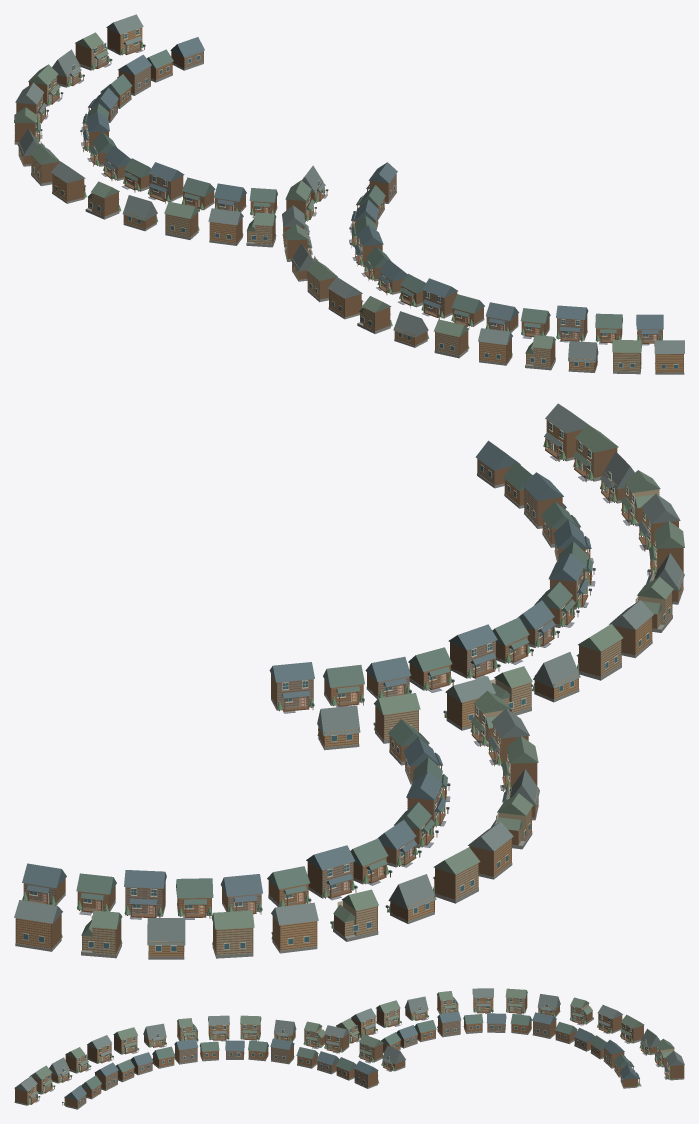
The model's file is eastbank-village.glb.
The picture shows the model from 3 angles, top to bottom: view 1: azimuth 30°, elevation 25°; view 2: azimuth 150°, elevation 25°; view 3: azimuth 270°, elevation 25°; orthographic projection. The views are drawn at different scales.
Parts seen in each view (by area): view 1: river_house_05.028, river_house_02.025, river_house_05.025, river_house_05.022, river_house_07.022, river_house_07.025, river_house_02.022, river_house_02.021, river_house_05.026, river_house_05.023, river_house_05.021, river_house_03.028 (+37 smaller); view 2: river_house_05.028, river_house_02.026, river_house_05.027, river_house_02.023, river_house_02.024, river_house_07.026, river_house_02.027, river_house_03.027, river_house_07.027, river_house_07.023, river_house_01.026, river_house_07.021 (+43 smaller); view 3: river_house_05.022, river_house_05.024, river_house_05.027, river_house_07.025, river_house_07.022, river_house_07.024, river_house_05.021, river_house_05.023, river_house_07.026, river_house_02.026, river_house_02.024, river_house_02.022 (+46 smaller).
Part boxes in pixels (left/top/right/bottom): river_house_05.028: left=106, top=14, right=145, bottom=55; river_house_02.025: left=147, top=162, right=184, bottom=203; river_house_05.025: left=208, top=208, right=243, bottom=245; river_house_05.022: left=478, top=328, right=512, bottom=365; river_house_07.022: left=433, top=319, right=469, bottom=358; river_house_07.025: left=164, top=201, right=199, bottom=239; river_house_02.022: left=421, top=278, right=457, bottom=319; river_house_02.021: left=556, top=305, right=588, bottom=342; river_house_05.026: left=51, top=161, right=86, bottom=203; river_house_05.023: left=328, top=277, right=363, bottom=319; river_house_05.021: left=654, top=340, right=684, bottom=374; river_house_03.028: left=75, top=32, right=112, bottom=70; river_house_05.028: left=14, top=900, right=62, bottom=951; river_house_02.026: left=306, top=845, right=357, bottom=900; river_house_05.027: left=271, top=902, right=318, bottom=953; river_house_02.023: left=448, top=624, right=500, bottom=679; river_house_02.024: left=269, top=662, right=314, bottom=713; river_house_07.026: left=432, top=847, right=480, bottom=903; river_house_02.027: left=124, top=870, right=166, bottom=919; river_house_03.027: left=330, top=889, right=378, bottom=941; river_house_07.027: left=211, top=910, right=254, bottom=958; river_house_07.023: left=576, top=624, right=622, bottom=680; river_house_01.026: left=385, top=874, right=436, bottom=923; river_house_07.021: left=573, top=424, right=618, bottom=482; river_house_05.022: left=87, top=1035, right=113, bottom=1063; river_house_05.024: left=324, top=1025, right=349, bottom=1053; river_house_05.027: left=597, top=1005, right=622, bottom=1033; river_house_07.025: left=376, top=1000, right=401, bottom=1027; river_house_07.022: left=113, top=1027, right=139, bottom=1054; river_house_07.024: left=358, top=1034, right=383, bottom=1063; river_house_05.021: left=14, top=1076, right=40, bottom=1105; river_house_05.023: left=208, top=1015, right=229, bottom=1041; river_house_07.026: left=505, top=988, right=527, bottom=1014; river_house_02.026: left=532, top=1012, right=556, bottom=1038; river_house_02.024: left=354, top=1060, right=379, bottom=1088; river_house_02.022: left=174, top=1039, right=198, bottom=1064.
Bounding box in the file's own units: 85.72 × 9.4 × 229.
